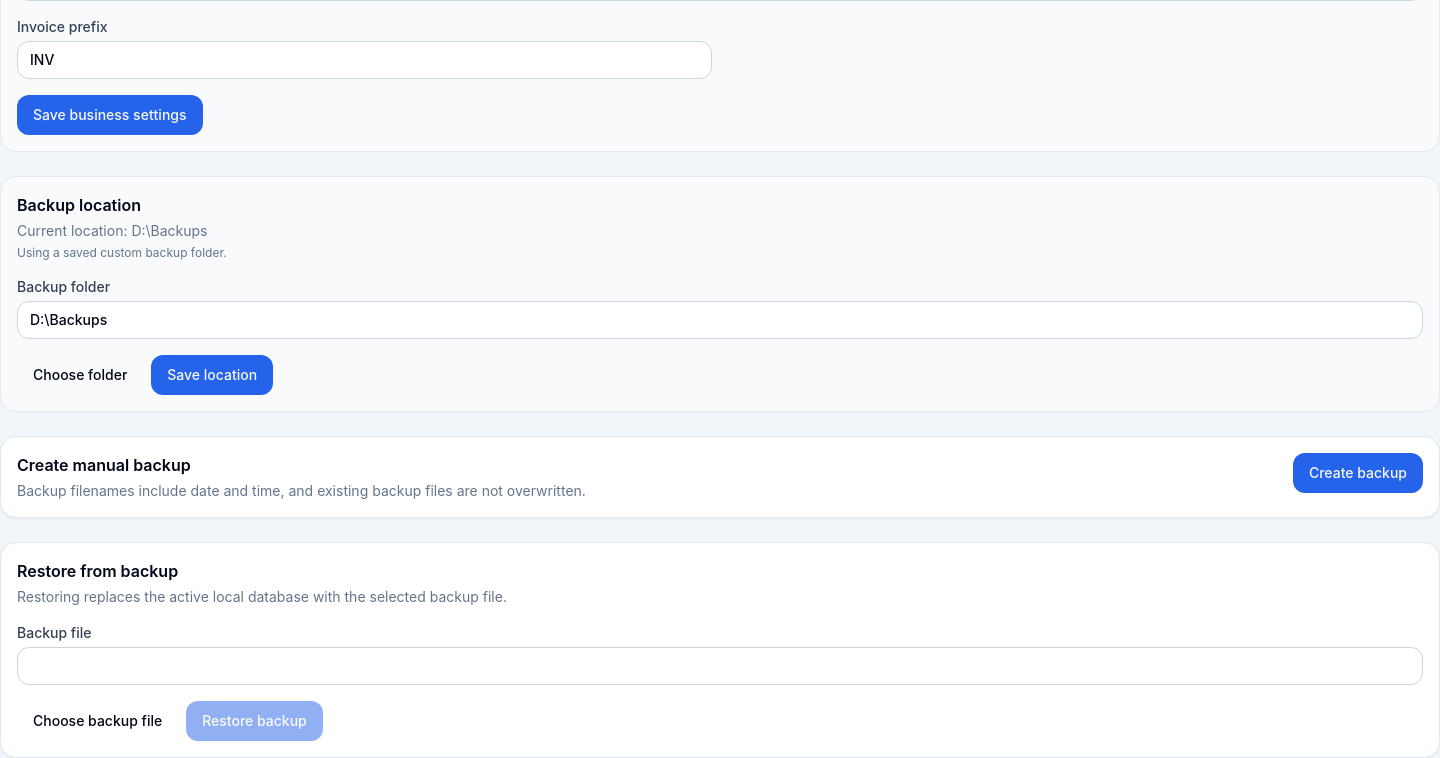
SettingsScreen › creates a manual backup
The width and height of the screenshot is (1440, 758).
(page scrolled)
Expected: the field showing "D:\\Backups" is shown, [17,301,1423,339]
Click the button "Create backup" at (1358, 473), box [1293,453,1423,493]
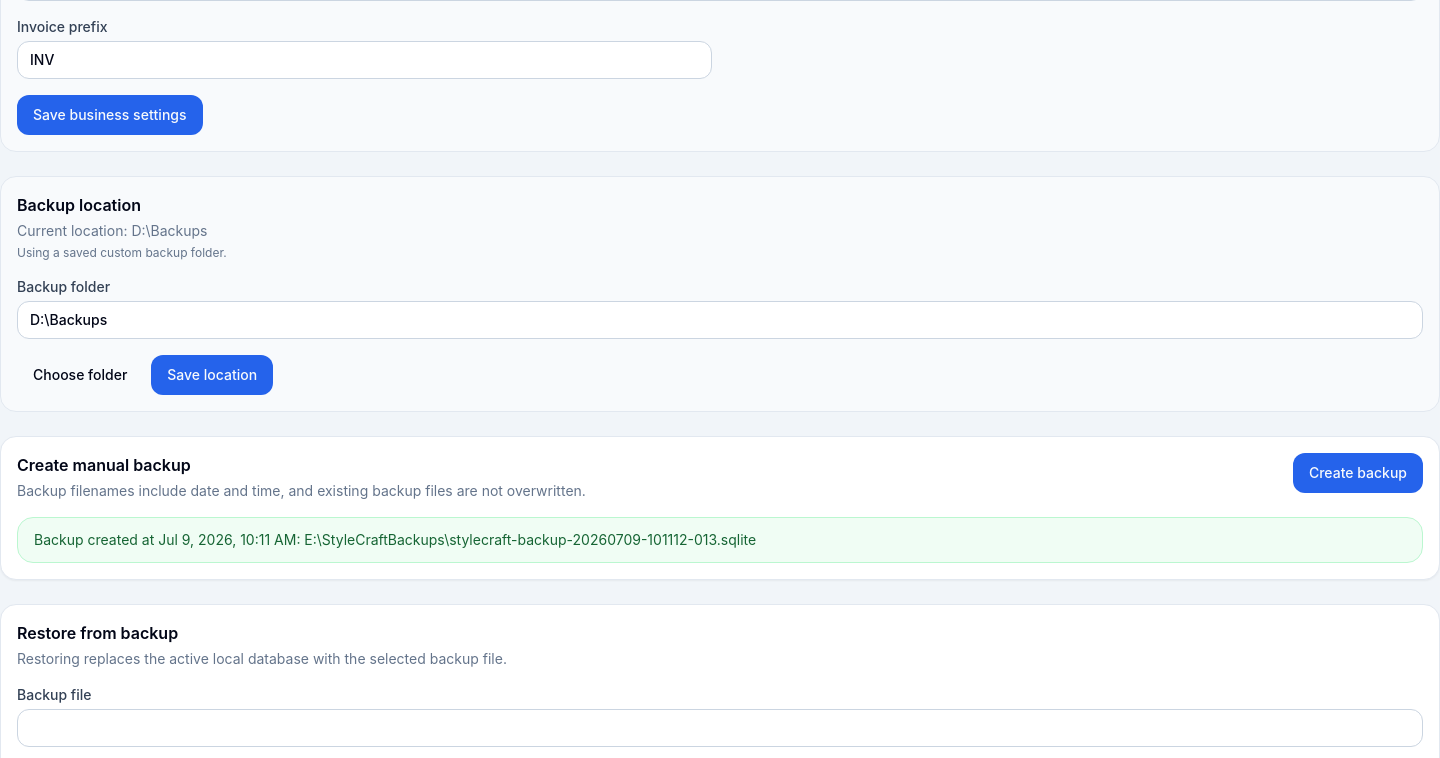
Now the message shows "stylecraft-backup-20260709-101112-013.sqlite", box [304,531,756,548]
